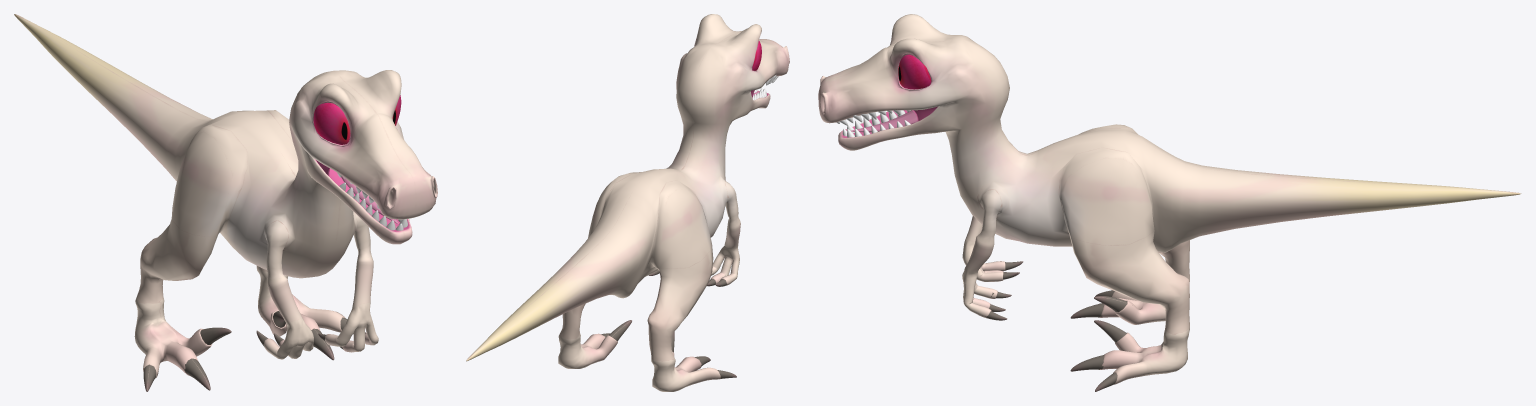
The model's file is andy.glb.
3 renders of one model, left to right at view 1: azimuth 30°, elevation 25°; view 2: azimuth 150°, elevation 25°; view 3: azimuth 270°, elevation 25°, orthographic. The views are drawn at different scales.
Visible parts, largest first — view 1: Andy_Andy, Andy_RightEyeball; view 2: Andy_Andy; view 3: Andy_Andy, Andy_LeftEyeball.
Boxes of the visible parts, left/top/right/bottom form: Andy_Andy: left=14, top=14, right=437, bottom=391; Andy_RightEyeball: left=313, top=103, right=350, bottom=144; Andy_Andy: left=466, top=14, right=789, bottom=391; Andy_Andy: left=818, top=14, right=1521, bottom=391; Andy_LeftEyeball: left=898, top=54, right=931, bottom=89.
Bounding box in the file's own units: 0.6393 × 1 × 2.
Materials: 4 (2 with a texture image).
